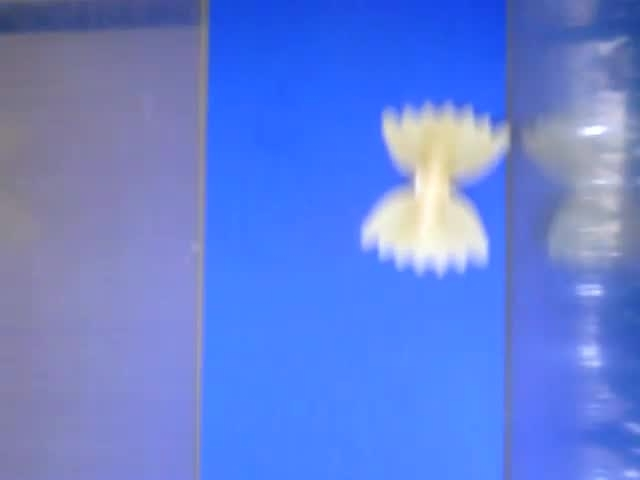farfalle: (361, 103, 510, 274)
